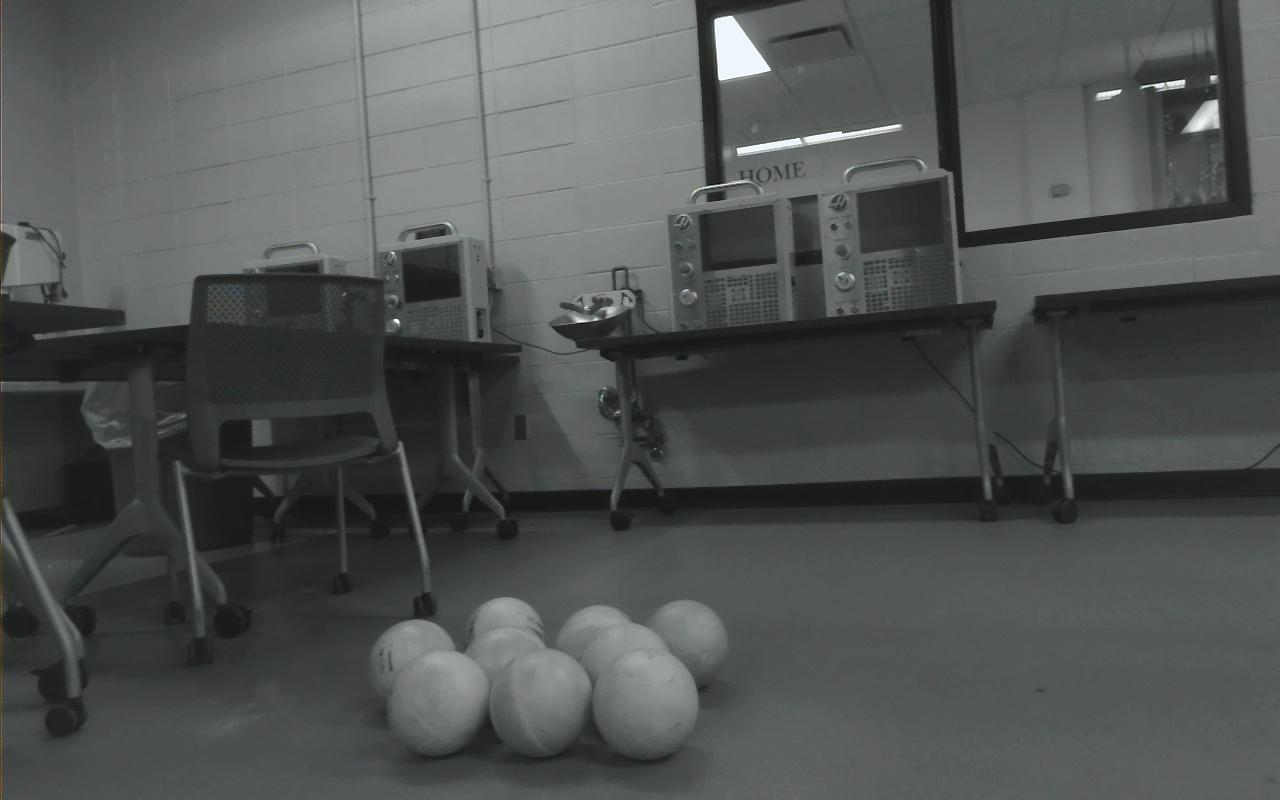Fuel: (593, 649, 699, 761), (488, 649, 593, 758), (387, 650, 489, 756), (579, 622, 673, 717), (463, 625, 549, 721), (367, 620, 454, 714), (643, 598, 730, 690), (556, 605, 637, 694), (463, 597, 547, 676)
